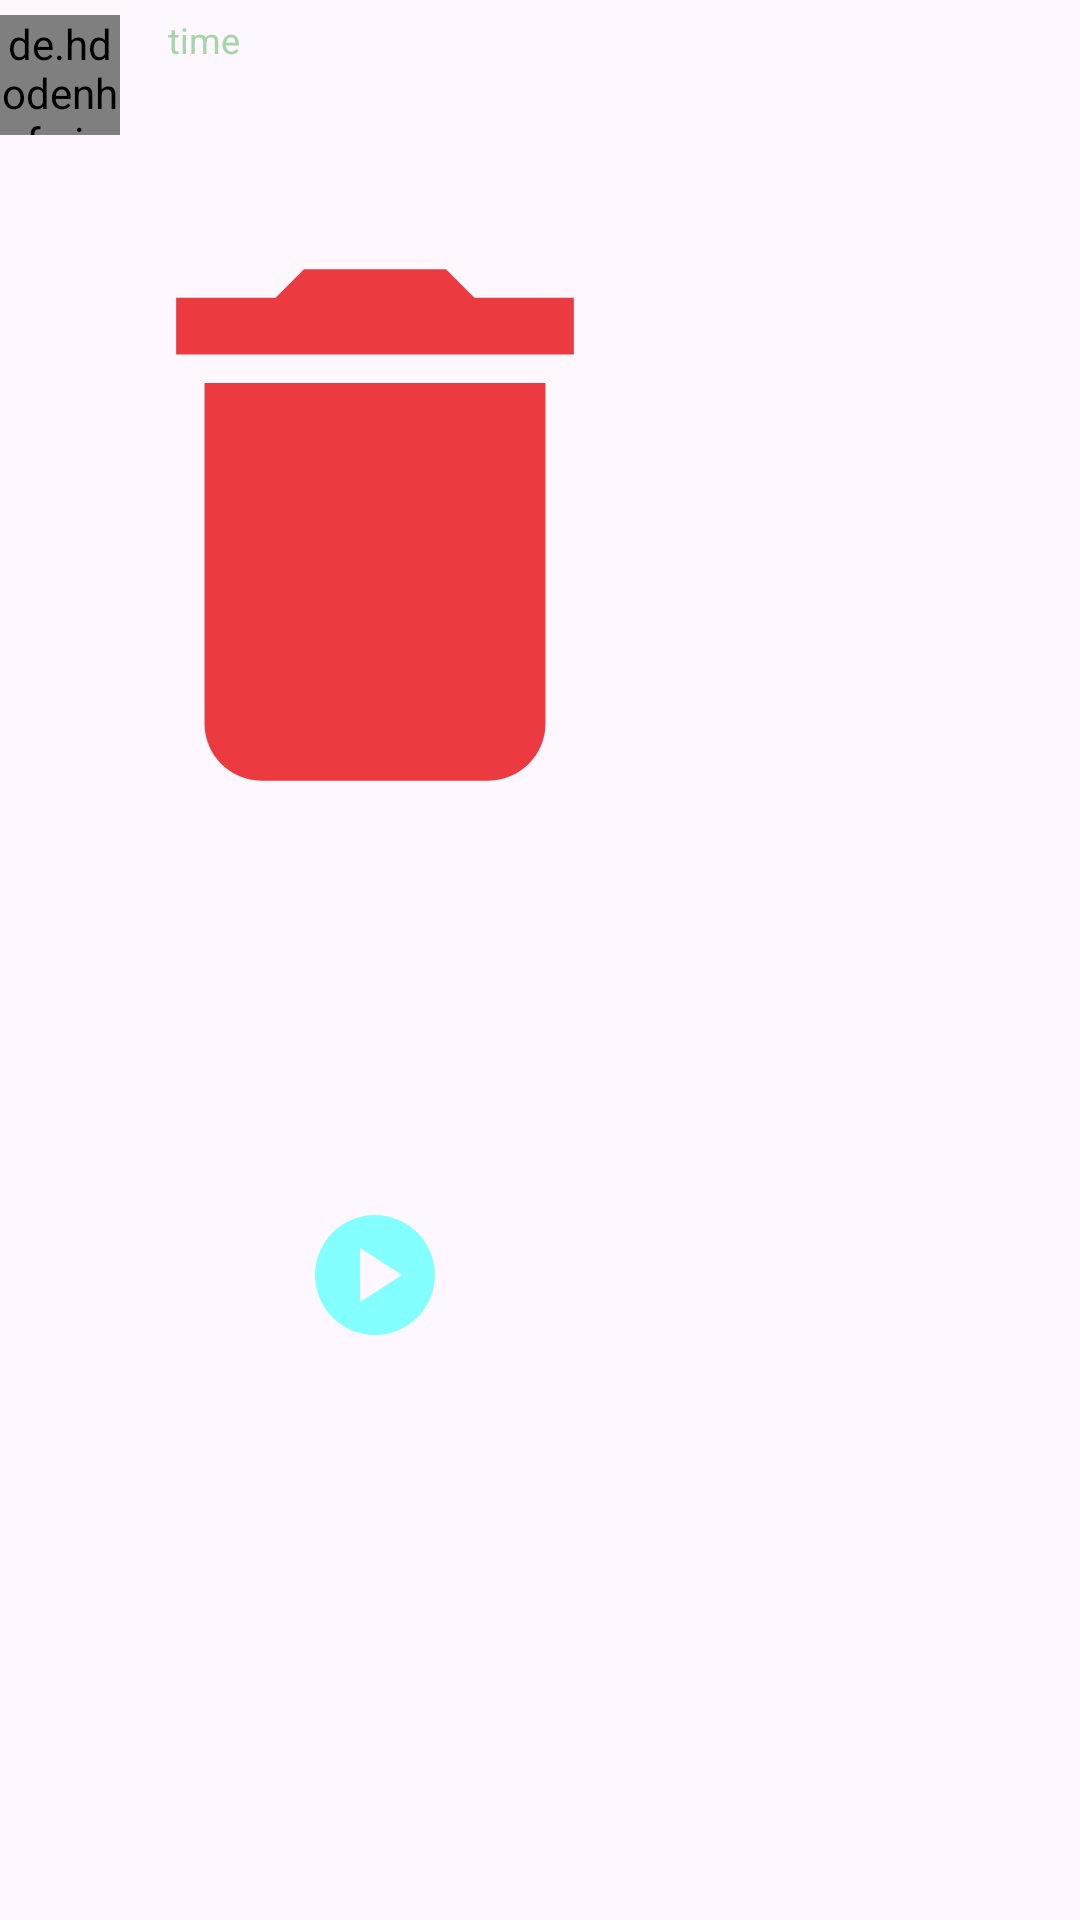

Icon click points for this 1080px x 1920px phone screenshot, format [x,y]:
Play video: [375,1275]
